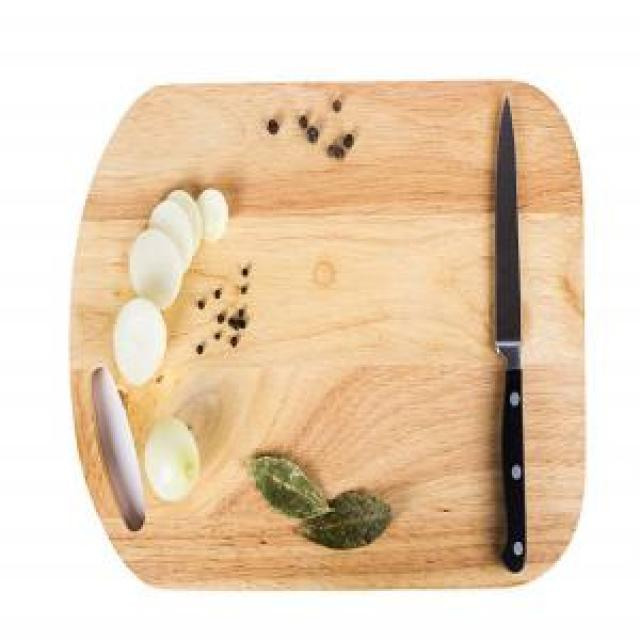knife: (491, 94, 530, 571)
